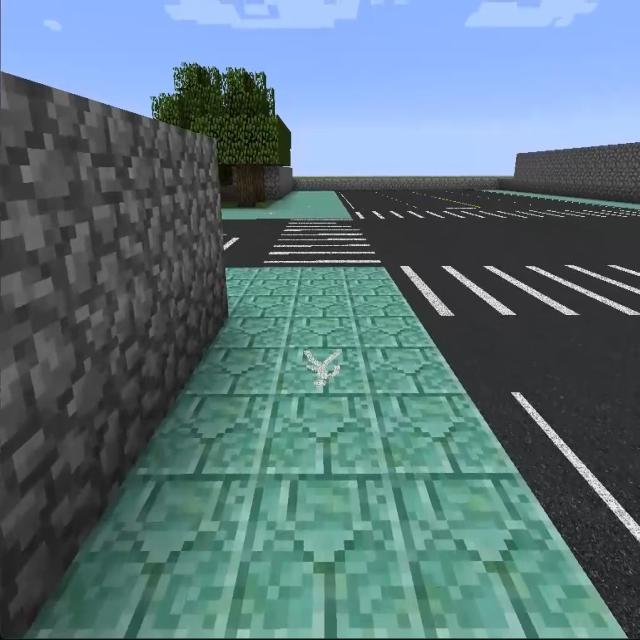crosswalk: (395, 253, 639, 341), (256, 219, 394, 264), (358, 206, 638, 226)
road: (455, 339, 633, 559), (372, 217, 629, 263), (339, 190, 565, 215), (228, 221, 279, 263)
sidewalk: (25, 265, 626, 639), (222, 190, 347, 219)
